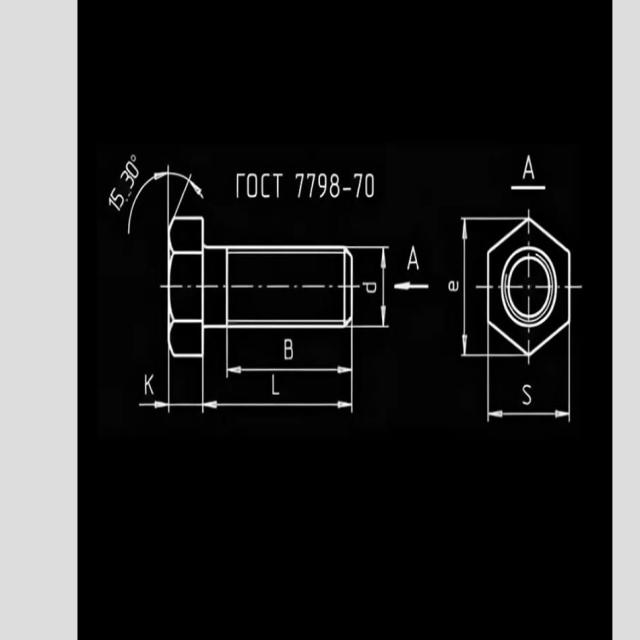marking_line: (457, 218, 471, 354), (225, 361, 351, 375), (201, 400, 353, 410), (163, 171, 194, 218), (377, 246, 392, 329), (489, 410, 568, 420), (395, 278, 433, 296), (136, 400, 169, 412)
numeric: (296, 167, 347, 207), (104, 152, 135, 211), (352, 167, 383, 207)
